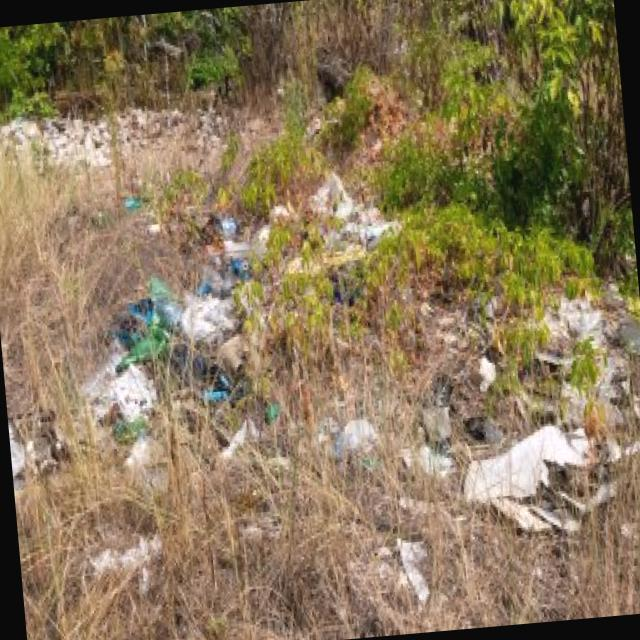garbage: (7, 112, 628, 599)
